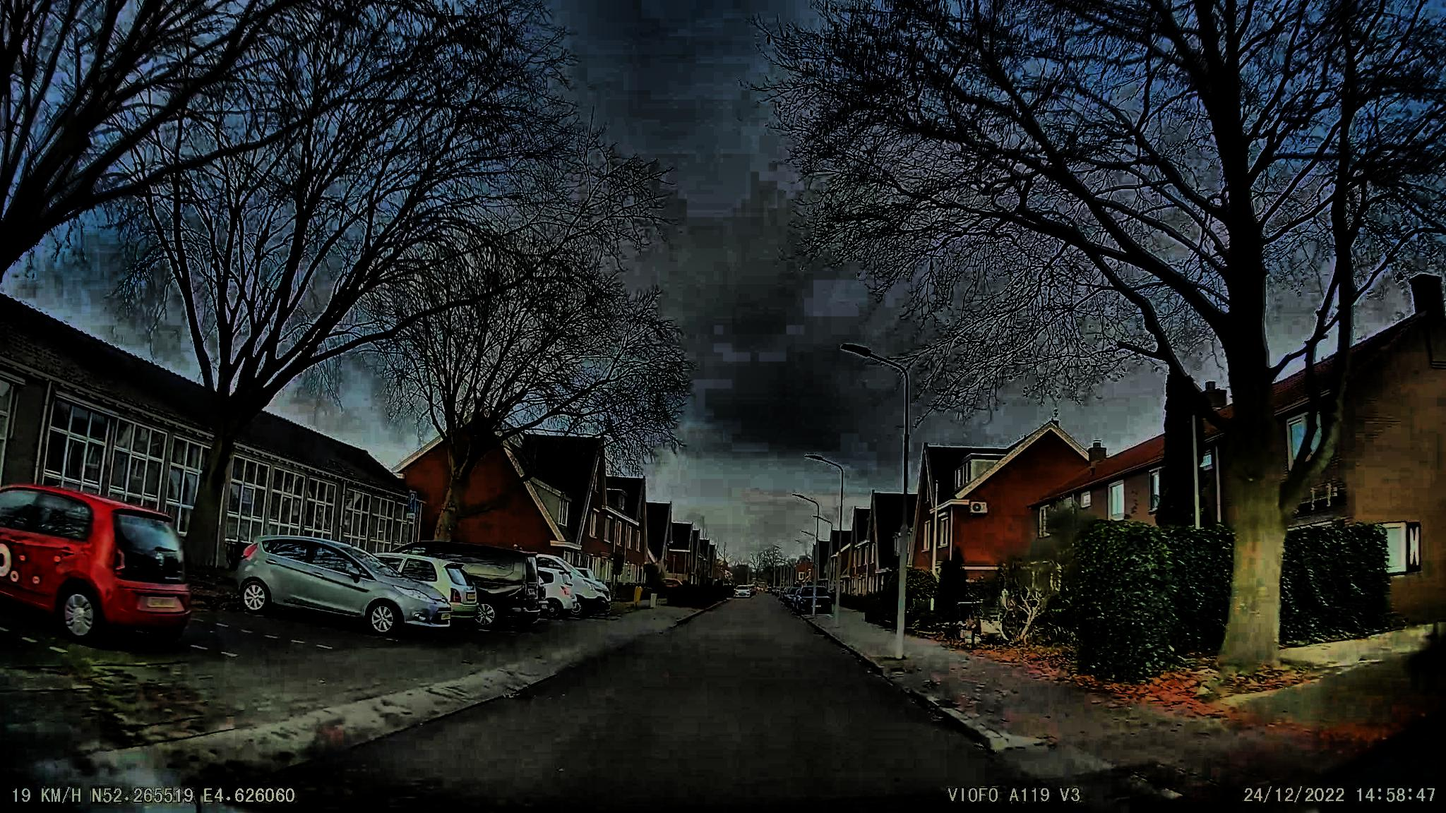Roads: (0, 601, 1079, 813)
